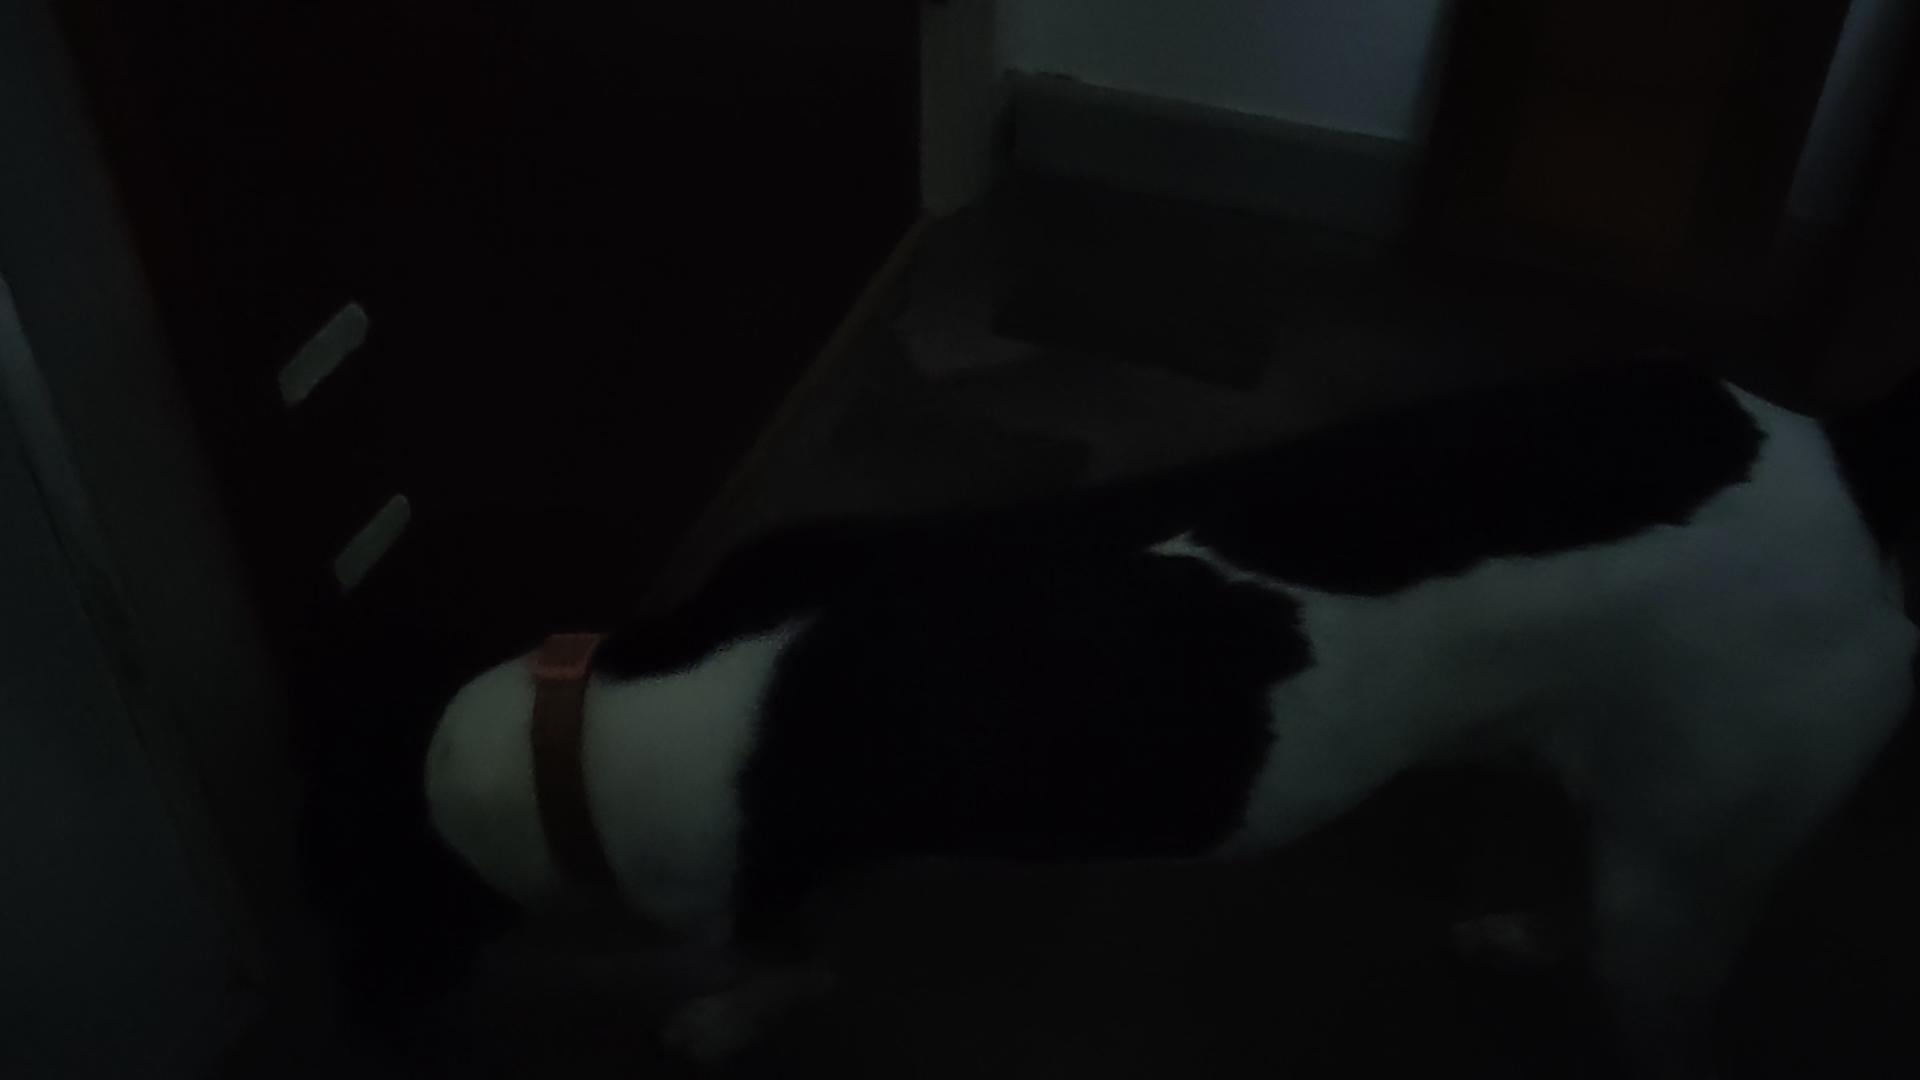Dog: (257, 342, 1919, 1077)
